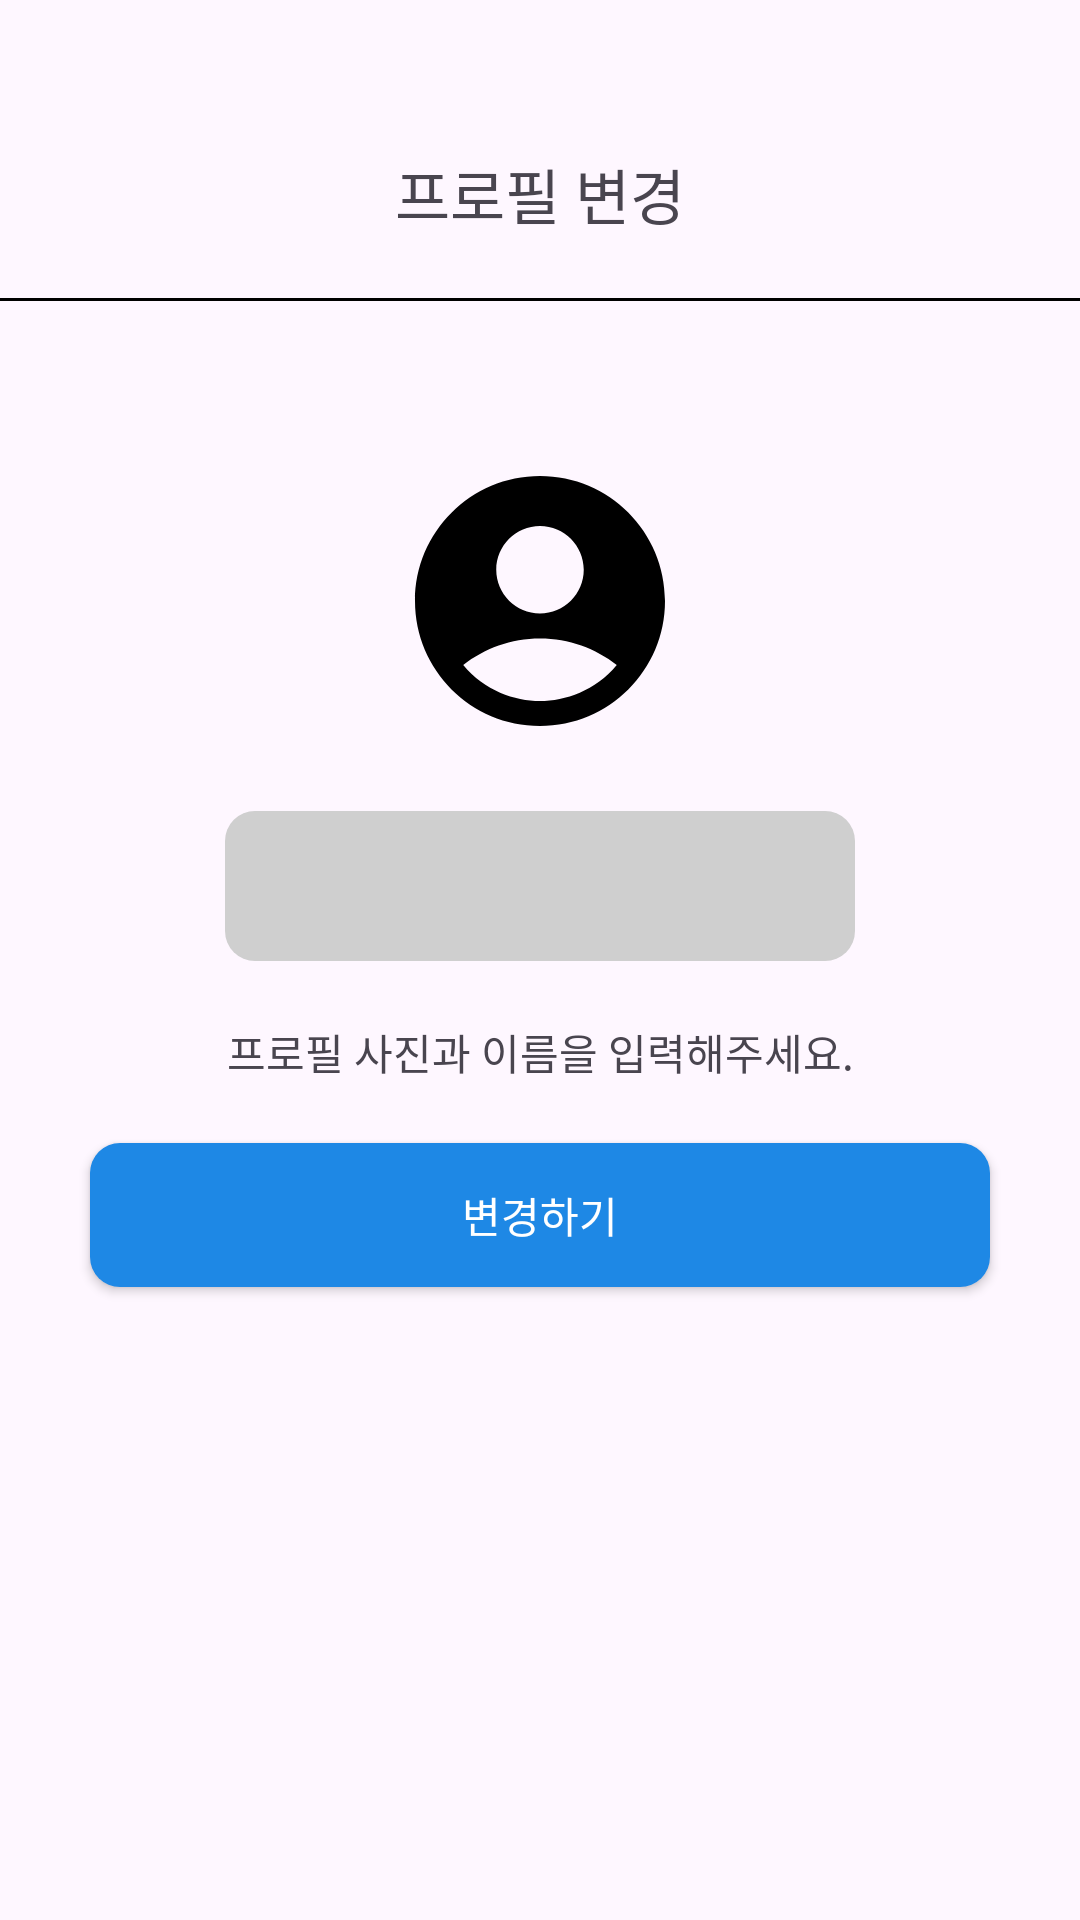

Icon bounding boxes for this 1080px x 1920px phone screenshot, format (x1, y1, x2, y2):
account circle: (415, 476, 665, 726)
